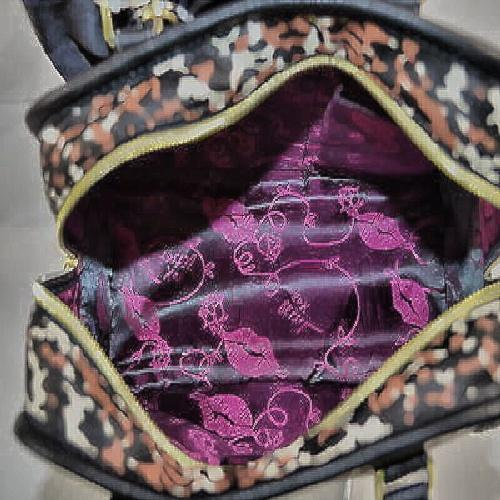toaster: (43, 42, 490, 476)
